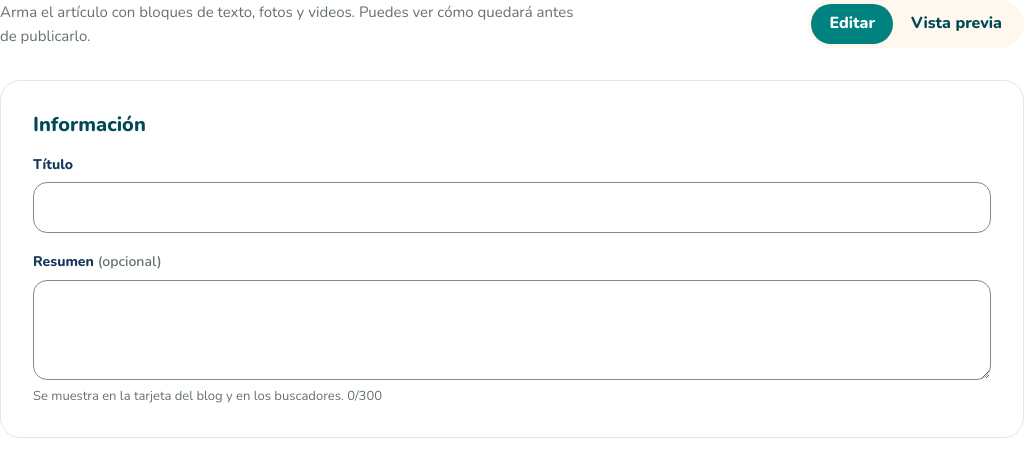
Scenario: PostEditorComponent › points to the incomplete block instead of saving
Type "Jugar en casa" into the field labelled "Título" at [512, 208], box [33,182,991,233]
(page scrolled)
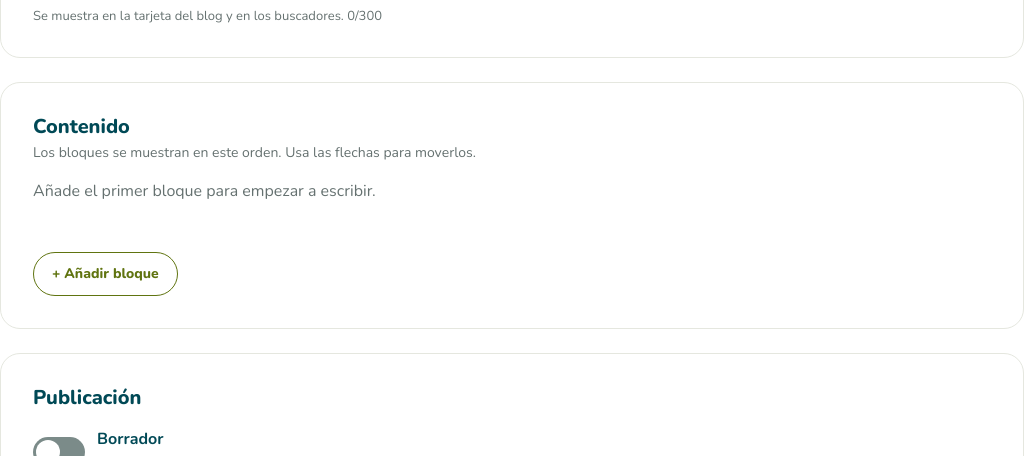
Click the button "+ Añadir bloque" at [105, 274], box [33,252,178,296]
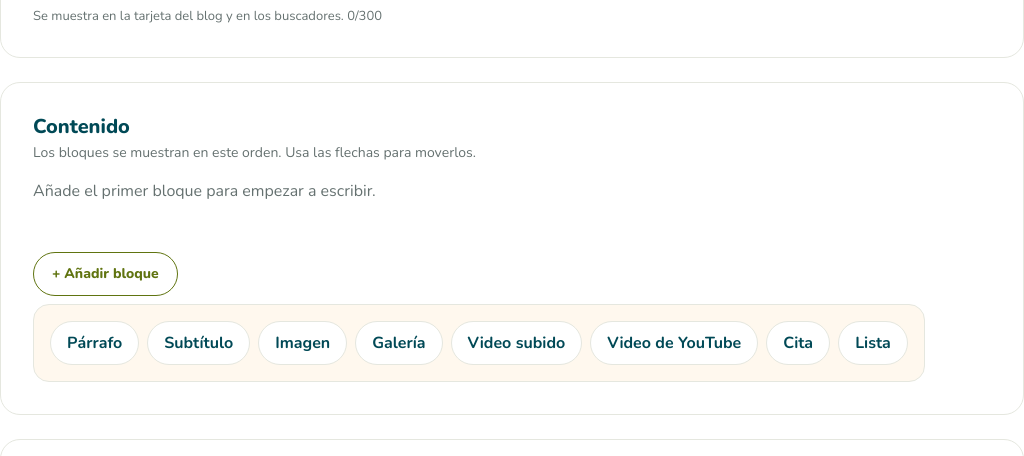
Click the button "Párrafo" at [95, 343], box [50,321,139,365]
(page scrolled)
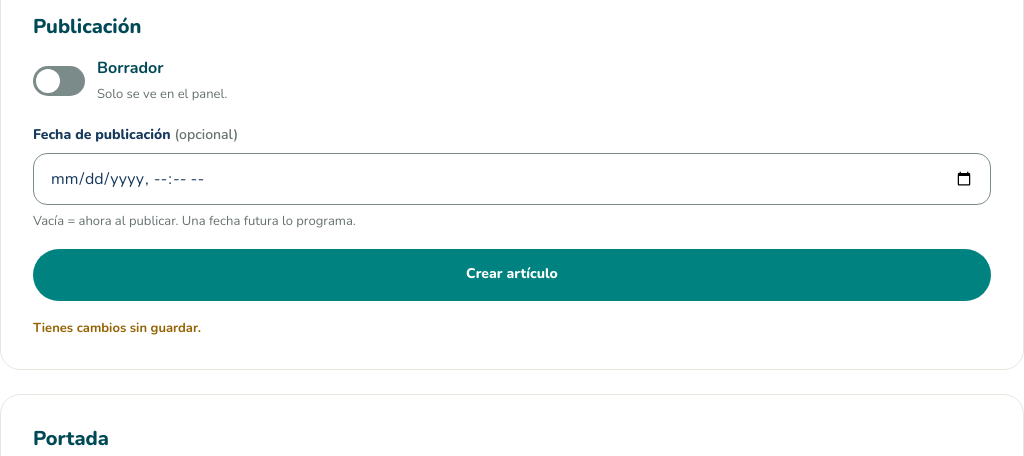
Click the button with class "button--primary" at [512, 274], box [33,248,991,300]
(page scrolled)
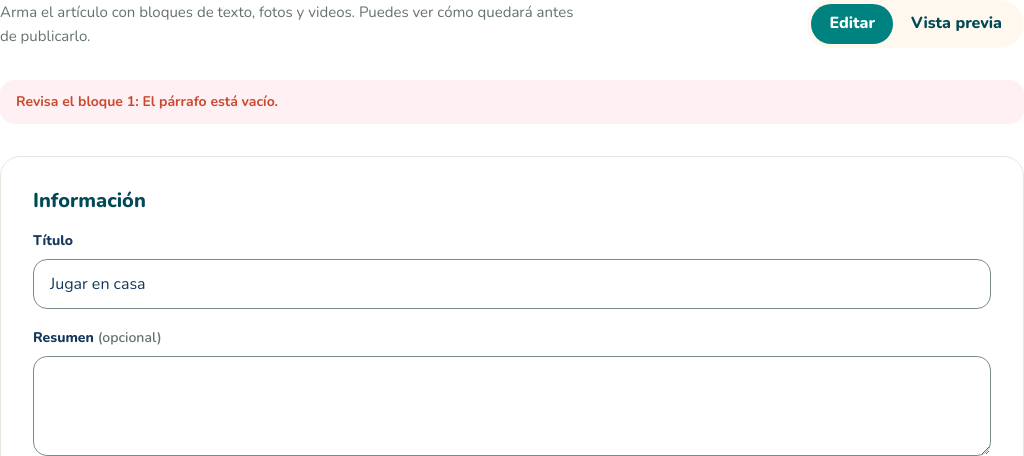
Check: the text with class "form-alert--error" reads "Revisa el bloque 1: El párrafo está vacío.", box [16,92,278,110]
